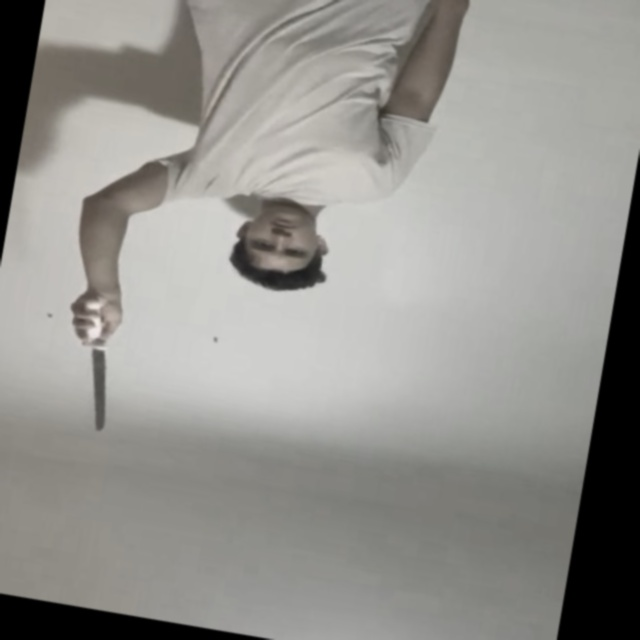Sharp-Object: (81, 353, 119, 431)
